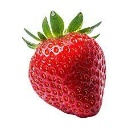strawberry: (28, 11, 107, 119)
